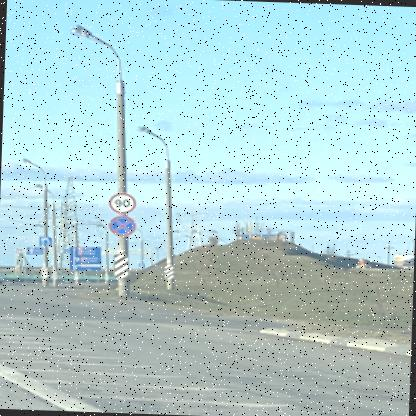speedlimit: (106, 192, 135, 212)
